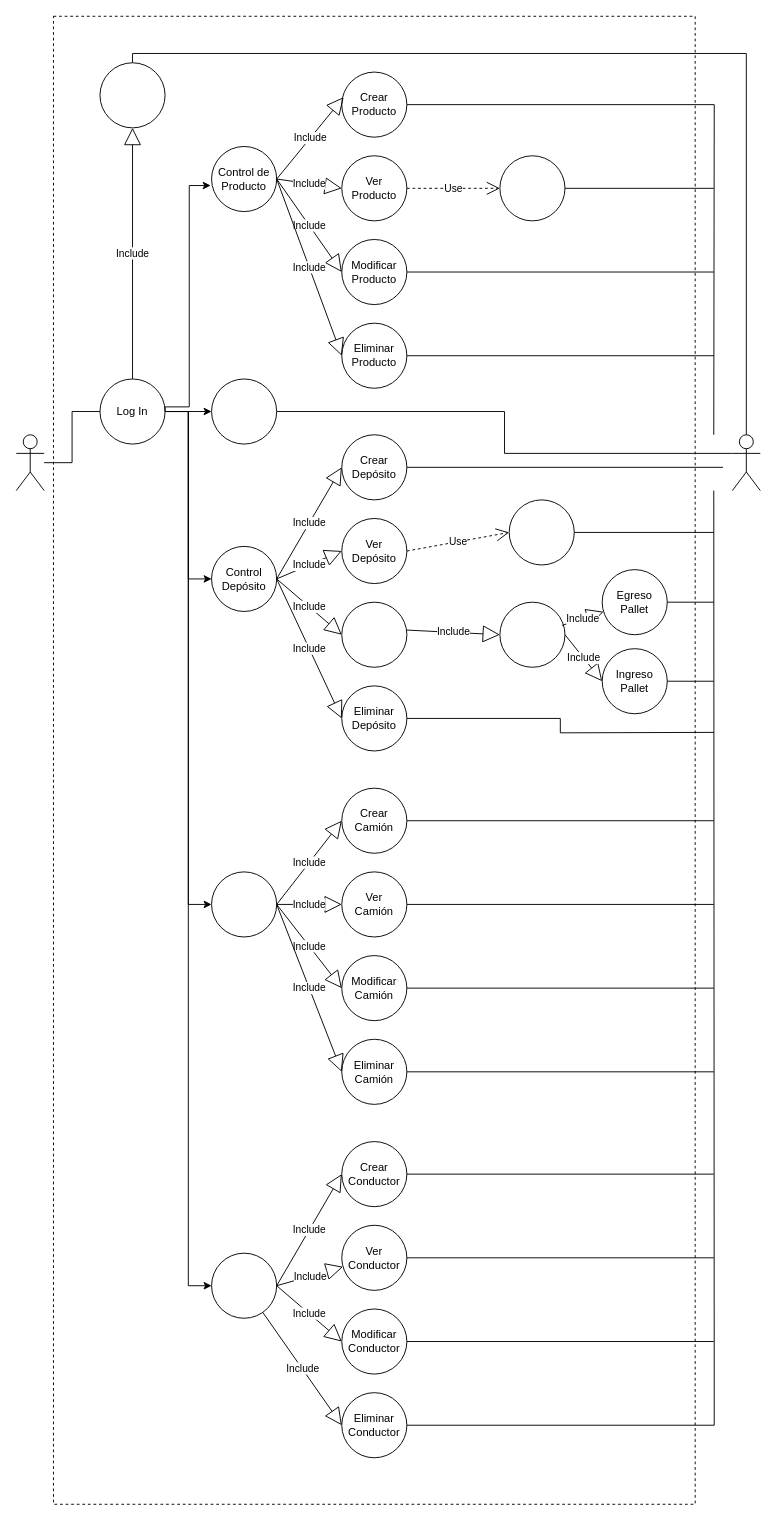
Some shapes in this 777 by 1521 pixel diagram are drawn without their labels. Here are the shapes that lost their labels. From the top down, the box of each, then its label:
(99, 62, 165, 128): Crear Usuario
(499, 155, 565, 221): Ubicación Mercadería
(211, 378, 277, 444): Reporte Mercadería
(15, 434, 44, 491): User
(731, 434, 760, 491): DB
(508, 499, 574, 565): Obtener Lugares Vacíos
(341, 601, 407, 667): Modificar Depósito
(499, 601, 565, 667): Informe Depósito
(211, 871, 277, 937): Control Camion
(211, 1252, 277, 1318): Control Conductor
